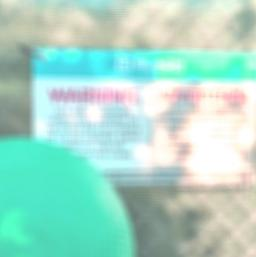algae: (0, 137, 134, 257)
